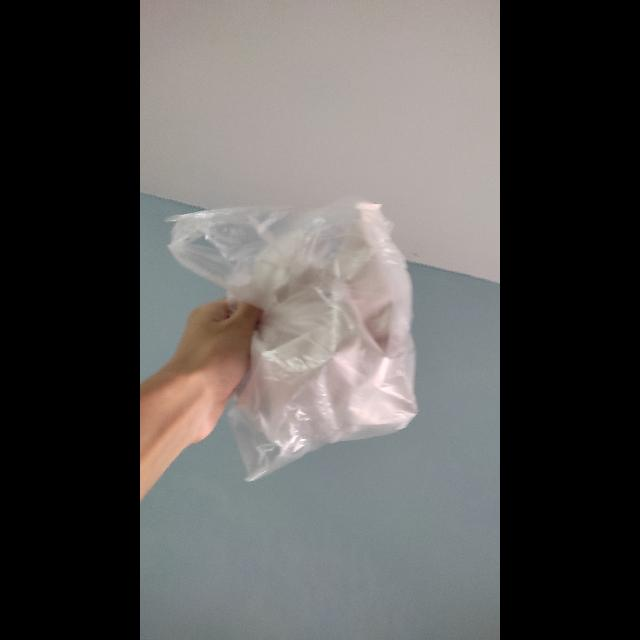plastic_bag: (165, 198, 431, 474)
